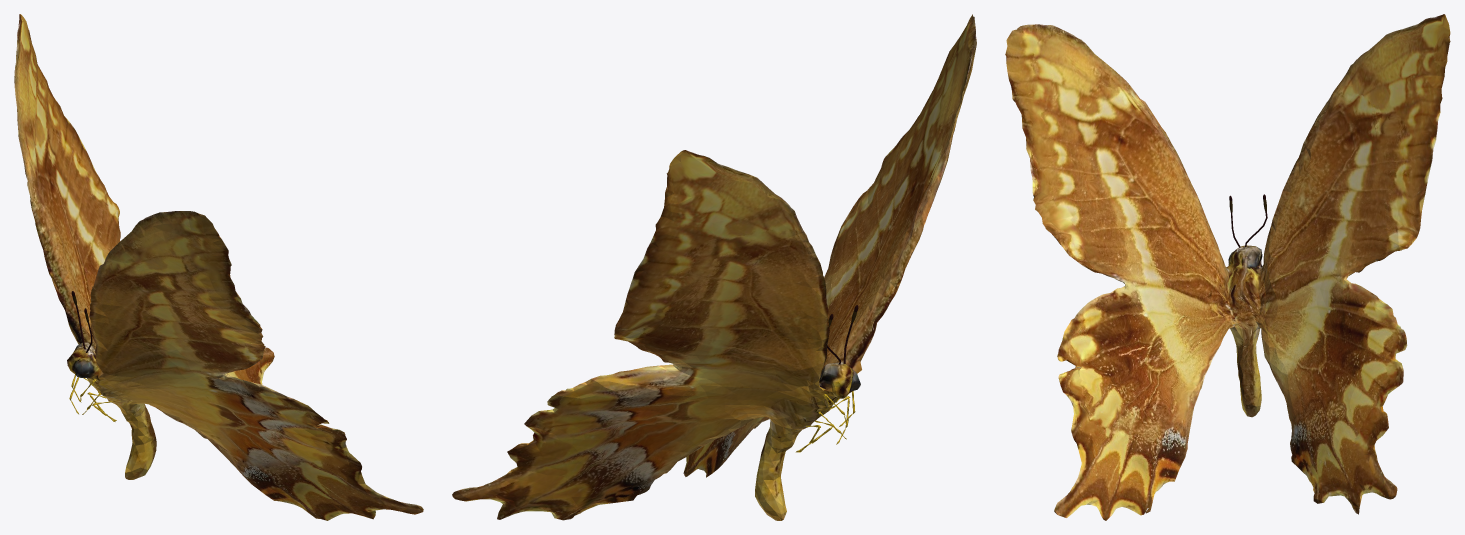
Rendered from schaus_folded.obj.
The picture shows the model from 3 angles, left to right: view 1: azimuth 30°, elevation 25°; view 2: azimuth 150°, elevation 25°; view 3: azimuth 270°, elevation 25°; orthographic projection. The views are drawn at different scales.
Parts seen in each view (by area): view 1: Schaus_SwallowtailAB.001; view 2: Schaus_SwallowtailAB.001; view 3: Schaus_SwallowtailAB.001.
Part boxes in pixels (x1,y1,x2,y2): Schaus_SwallowtailAB.001: (14, 14, 423, 520); Schaus_SwallowtailAB.001: (452, 14, 976, 520); Schaus_SwallowtailAB.001: (1005, 14, 1450, 520).
Bounding box in the file's own units: 10.51 × 14.46 × 13.67.
